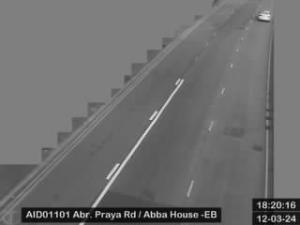vehicle: (254, 8, 270, 22)
